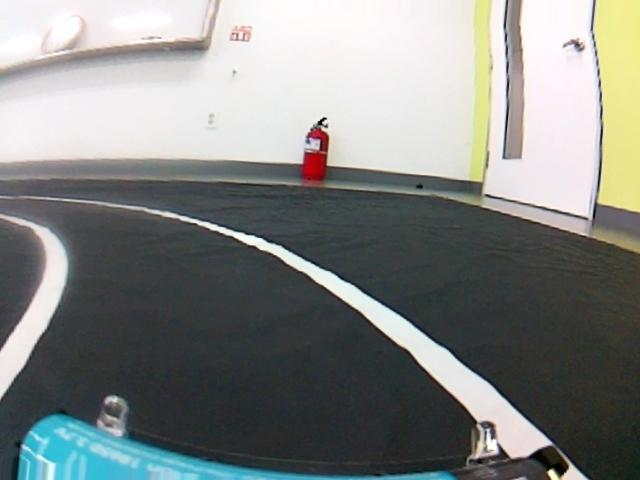left: (0, 179, 595, 474)
